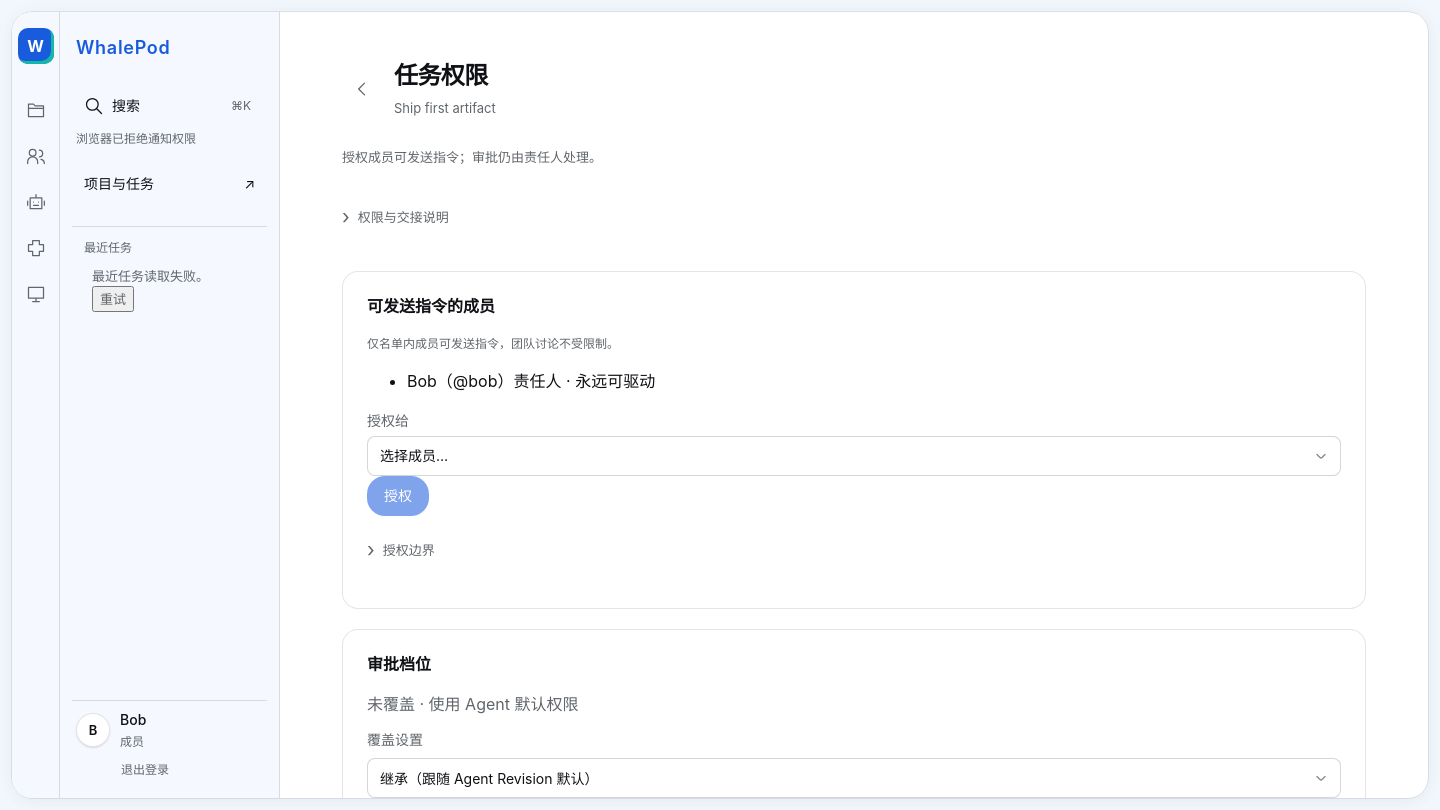
Test: 任务权限页（⑥e） › 两条不可让渡的边界写在页面上（审批不可授予 / 执行不换机器）
This screenshot has width=1440, height=810.
Click the heading "授权边界" at [401, 550], box [367,532,435,568]
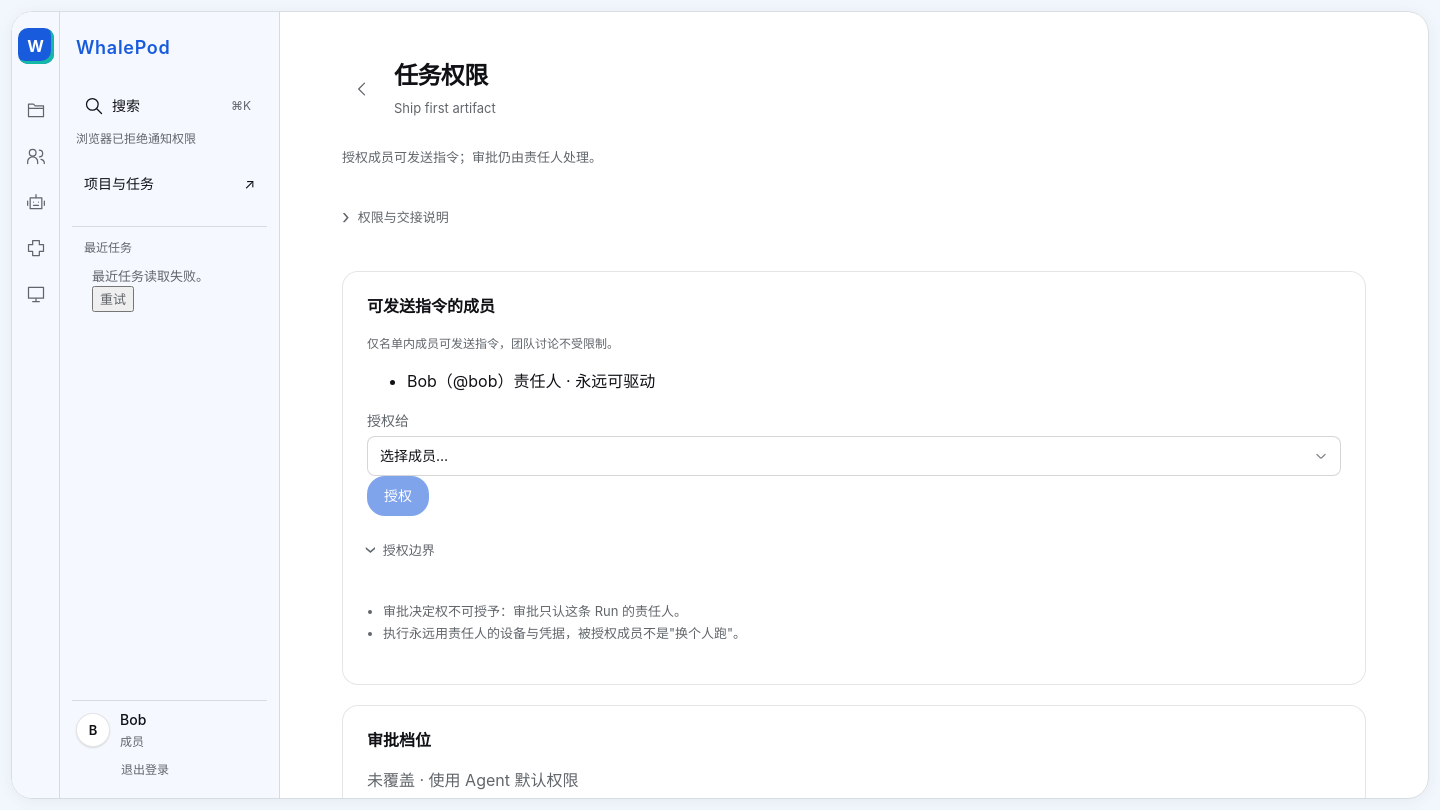
Check: the list item "审批决定权不可授予：审批只认这条 Run 的责任人。" is shown, box [383,603,687,619]
Check: the list item "执行永远用责任人的设备与凭据，被授权成员不是\"换个人跑\"。" is shown, box [383,625,746,641]
